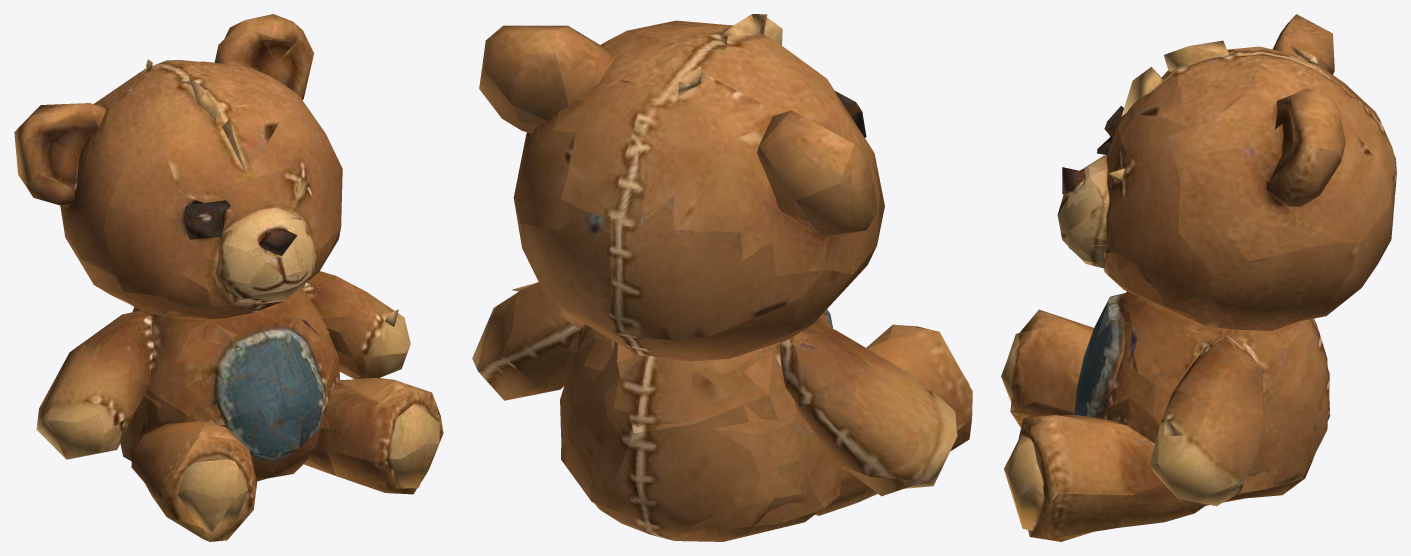
The model's file is stamp_bear.glb.
The picture shows the model from 3 angles, left to right: view 1: azimuth 30°, elevation 25°; view 2: azimuth 150°, elevation 25°; view 3: azimuth 270°, elevation 25°; orthographic projection. The views are drawn at different scales.
Bounding box in the file's own units: 0.9668 × 1 × 0.834.
1 material, 1 textured.
